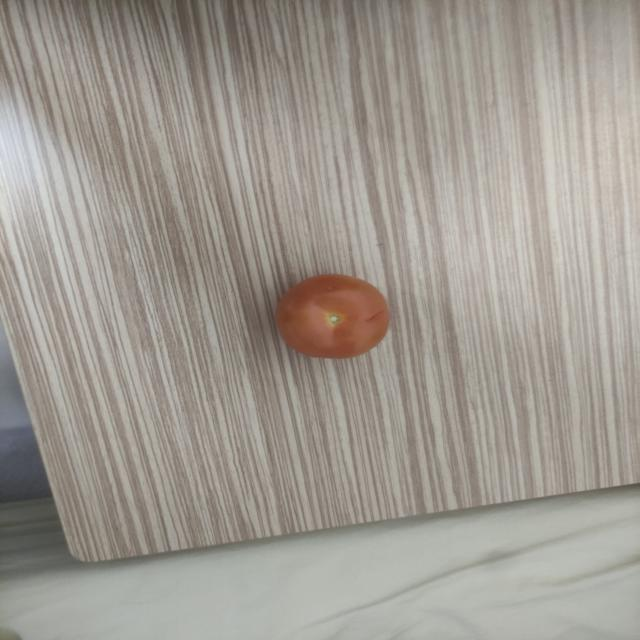sari: (271, 262, 400, 366)
